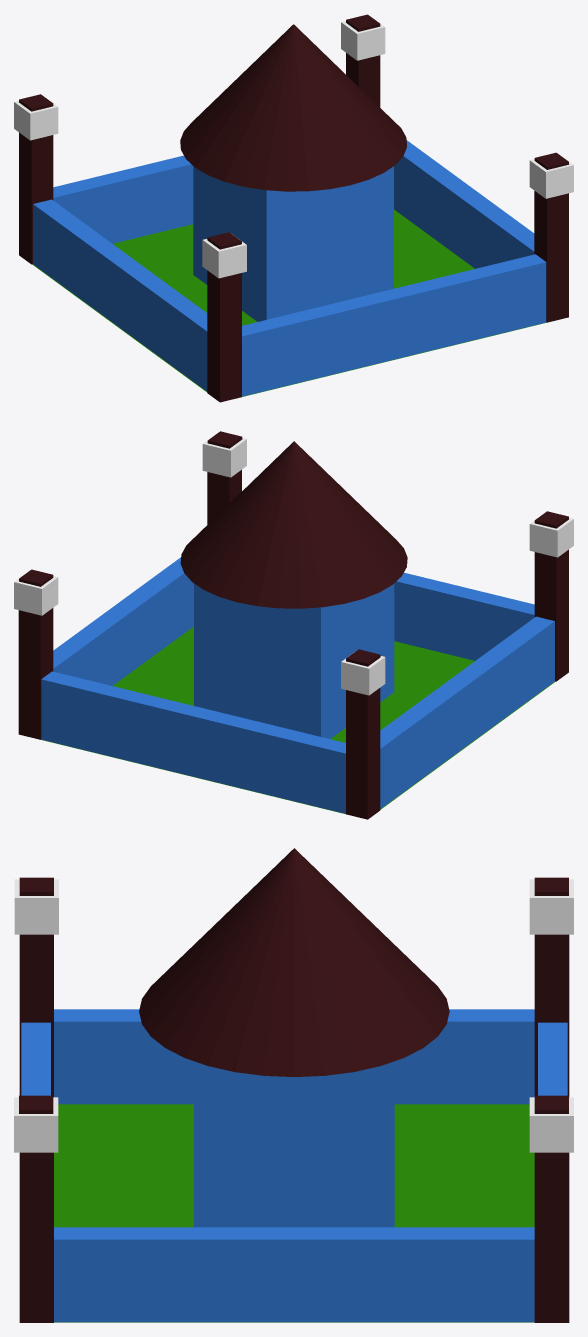
File: castel.gltf
The picture shows the model from 3 angles, top to bottom: view 1: azimuth 30°, elevation 25°; view 2: azimuth 150°, elevation 25°; view 3: azimuth 270°, elevation 25°; orthographic projection. The views are drawn at different scales.
Parts seen in each view (by area): view 1: Cube.011; view 2: Cube.011; view 3: Cube.011.
Boxes of the visible parts, x1=… form: Cube.011: x1=14, y1=14, x2=573, y2=402; Cube.011: x1=14, y1=431, x2=573, y2=819; Cube.011: x1=14, y1=848, x2=573, y2=1322.
Bounding box in the file's own units: 12.32 × 8.72 × 12.32.
